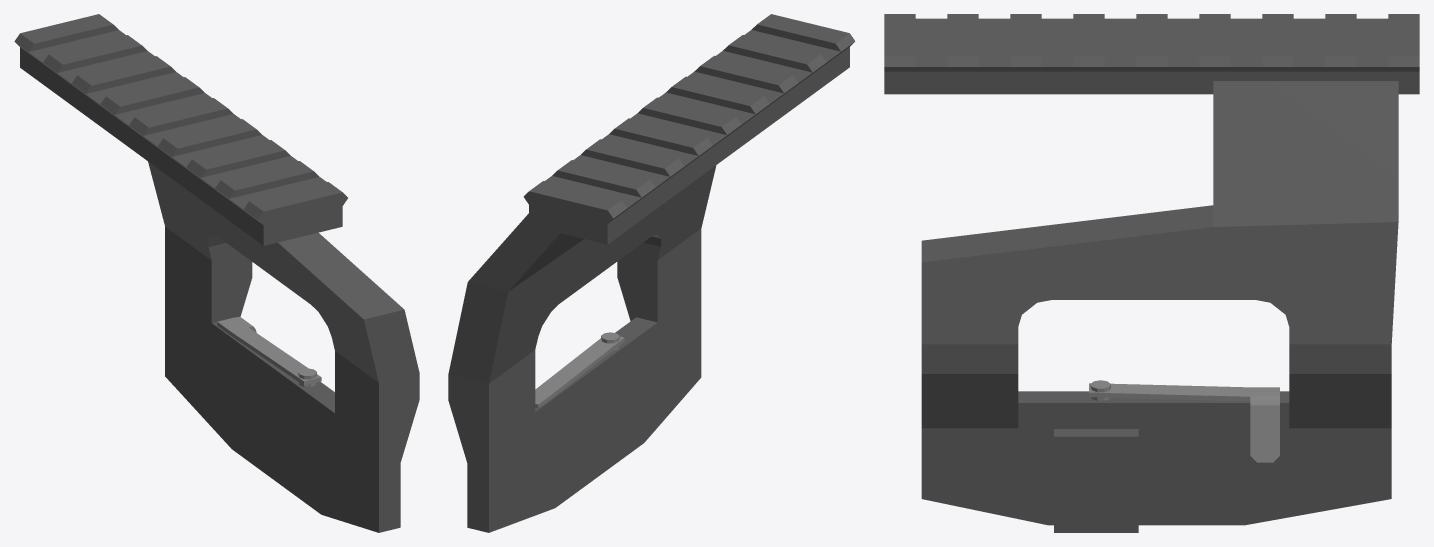
File: att_mount.glb
3 views of the same model, side by side, from view 1: azimuth 30°, elevation 25°; view 2: azimuth 150°, elevation 25°; view 3: azimuth 270°, elevation 25° (orthographic). The views are drawn at different scales.
Parts seen in each view (by area): view 1: optic_mount_01_0; view 2: optic_mount_01_0; view 3: optic_mount_01_0.
Boxes of the visible parts, x1,y1,x2,y2 form: optic_mount_01_0: (14,14,419,532); optic_mount_01_0: (448,14,855,532); optic_mount_01_0: (884,14,1419,532).
Size of the model in its own units: 0.0274 by 0.0572 by 0.0648.
Materials: 1 (1 with a texture image).
